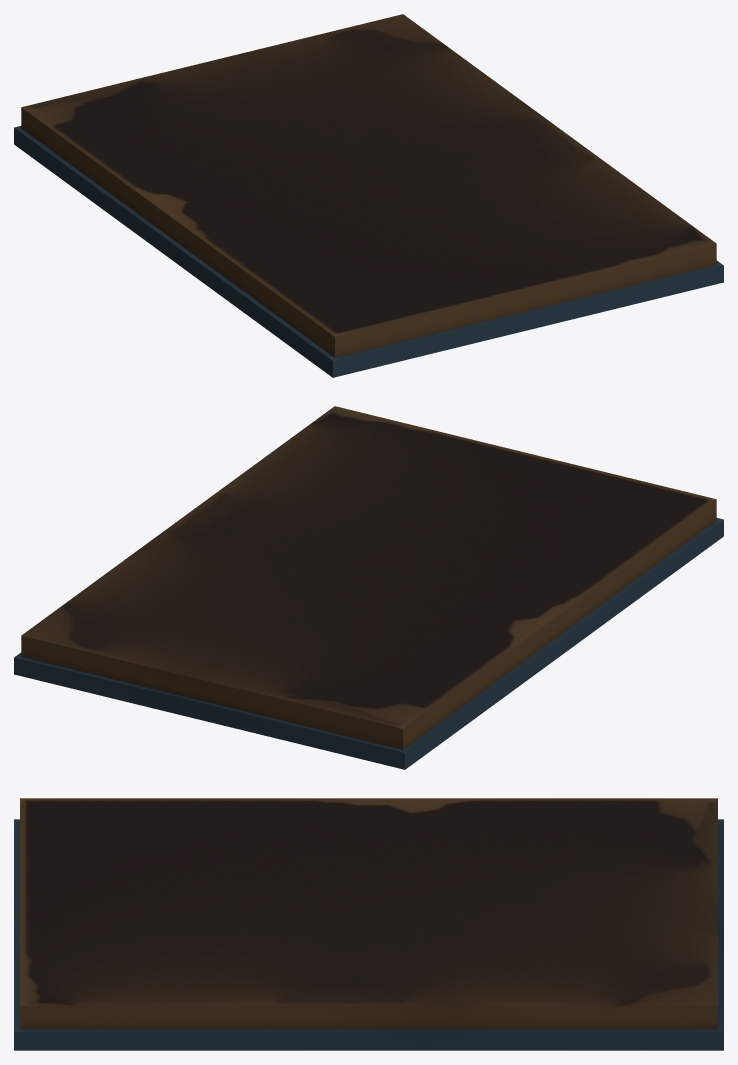
The model's file is Ground_02.FBX.
The picture shows the model from 3 angles, top to bottom: view 1: azimuth 30°, elevation 25°; view 2: azimuth 150°, elevation 25°; view 3: azimuth 270°, elevation 25°; orthographic projection. The views are drawn at different scales.
Visible parts, largest first — view 1: Ground_02; view 2: Ground_02; view 3: Ground_02.
Boxes of the visible parts, x1,y1,x2,y2 form: Ground_02: [14, 14, 723, 377]; Ground_02: [14, 406, 723, 769]; Ground_02: [14, 798, 723, 1050].
Bounding box in the file's own units: 18.26 × 1.69 × 25.79.
